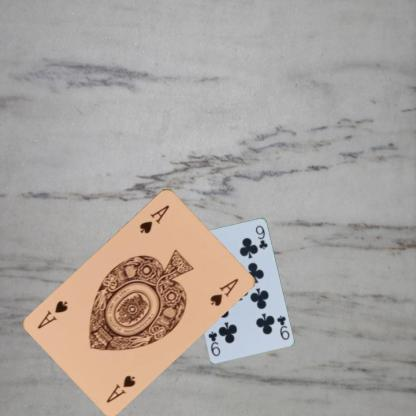9c: (274, 312, 290, 341)
As: (137, 202, 170, 235), (103, 372, 137, 404)
